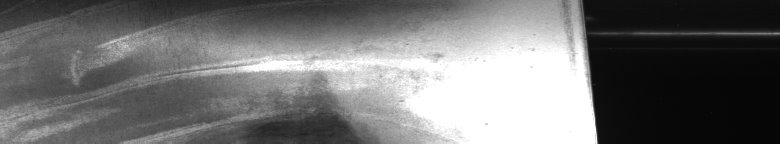ke: (19, 16, 349, 136)
